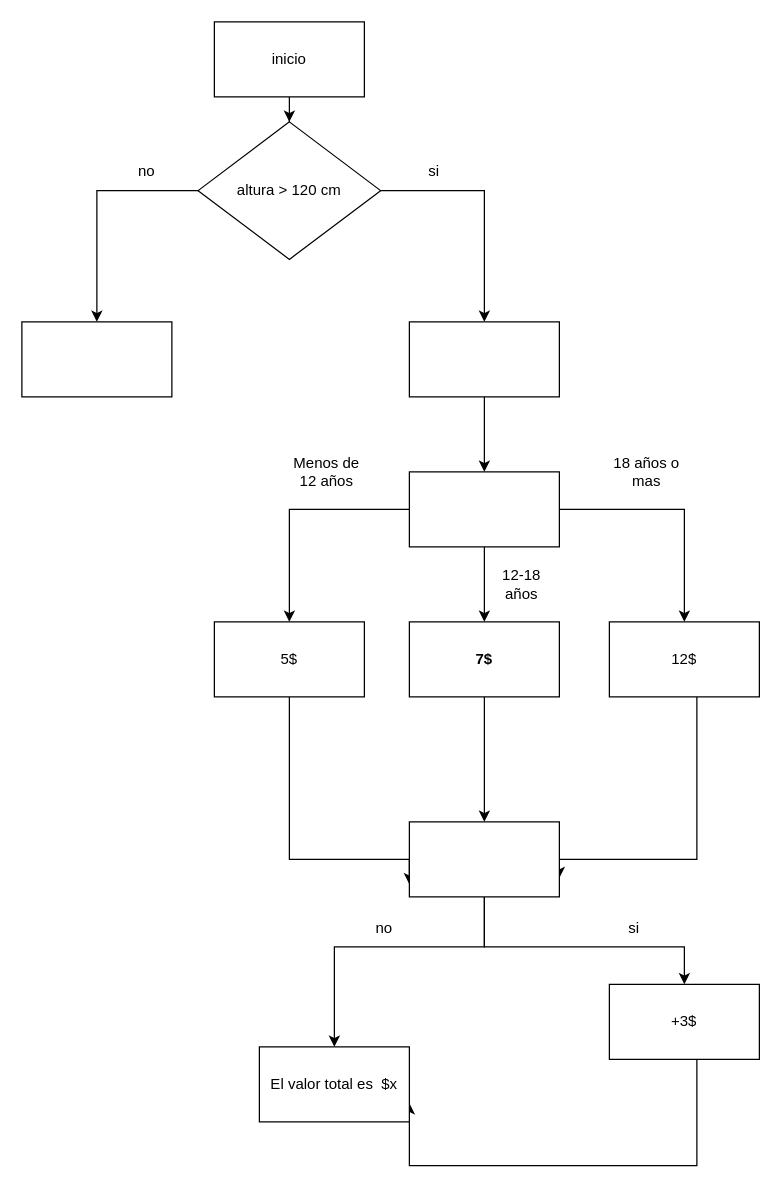
Some shapes in this 781 by 1198 pixel diagram are drawn without their labels. The shapes that lost their labels are listed below. From the top down, each one's centre as x and y in pixels, then its label:
At point (96, 359): "no puede subir".
At point (483, 359): "puede subir".
At point (483, 509): "edad".
At point (483, 859): "Quiere fotos?".
